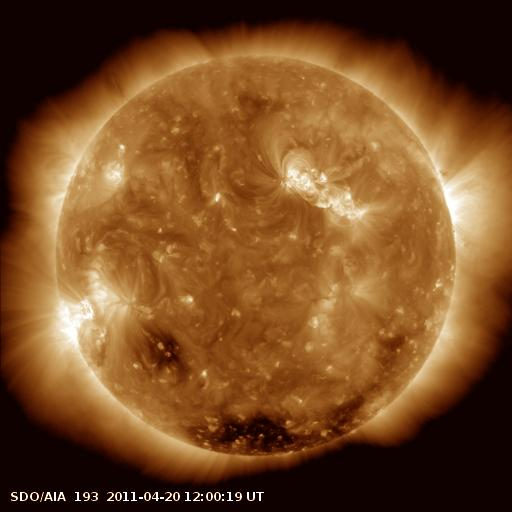coronal_hole: (180, 391, 373, 461), (131, 319, 193, 378)
